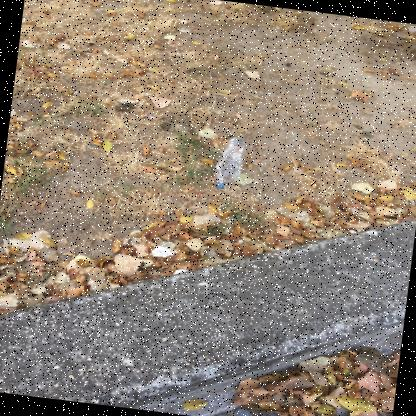Cigarette: (4, 195, 8, 199), (385, 157, 392, 159), (111, 0, 114, 1)
Clear plastic bottle: (214, 136, 248, 189)
